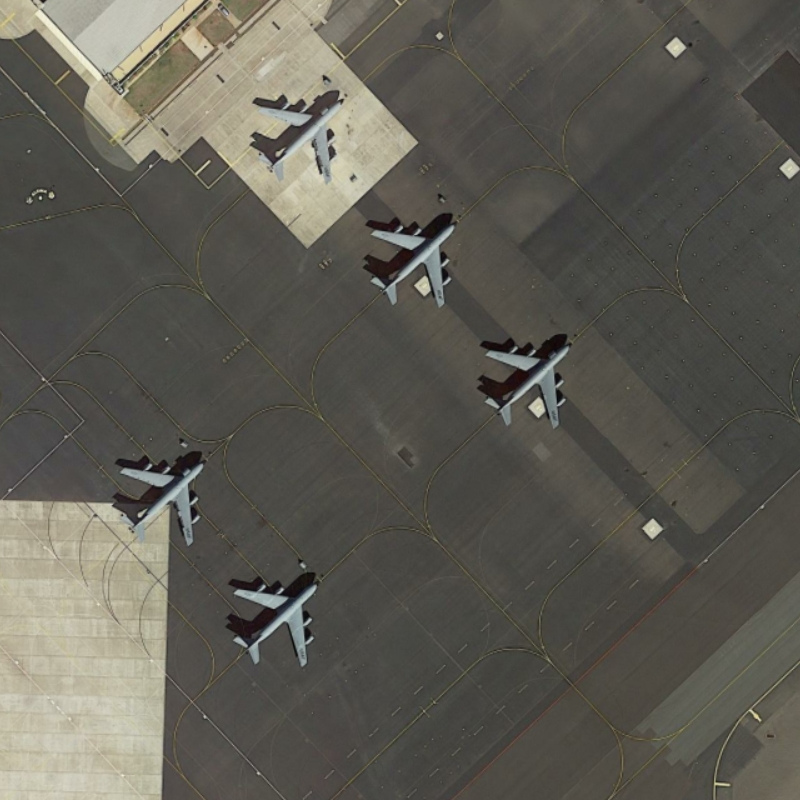A14: (366, 217, 464, 311), (226, 575, 324, 669), (252, 93, 348, 188), (480, 338, 575, 434), (116, 457, 211, 550)
